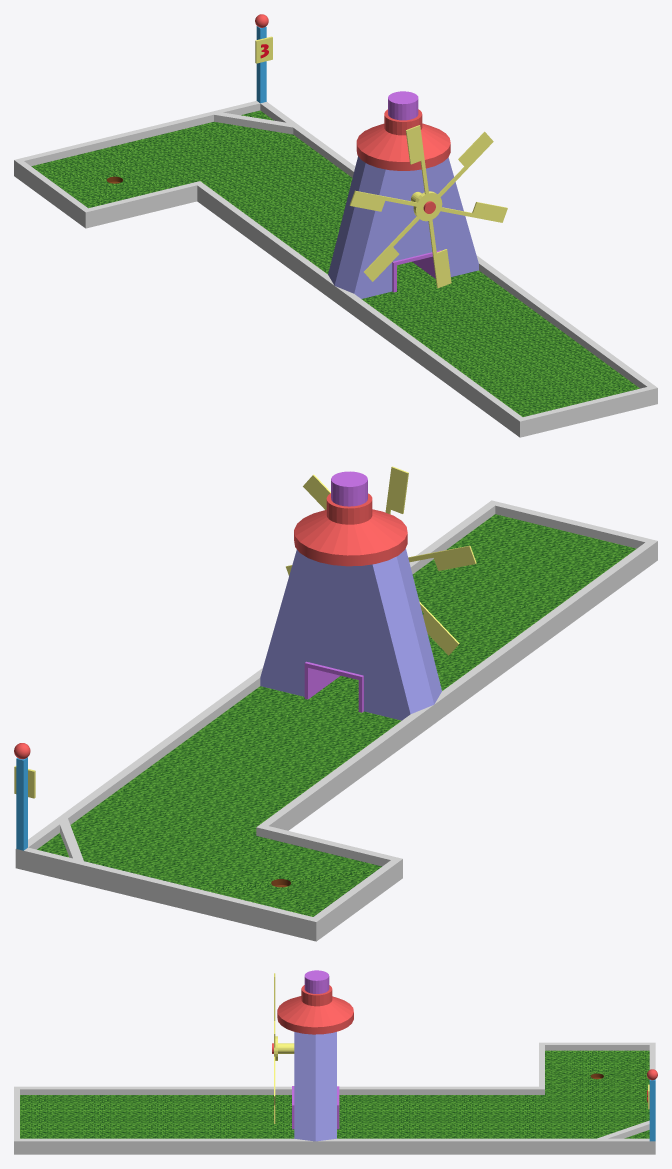
3 views of the same model, one above another, from view 1: azimuth 30°, elevation 25°; view 2: azimuth 150°, elevation 25°; view 3: azimuth 270°, elevation 25° (orthographic). The views are drawn at different scales.
Parts seen in each view (by area): view 1: Material2.003, Material3.004, Material2.002, Material2.001, Material3, Material3.001; view 2: Material2.003, Material3.004, Material2.002, Material3, Material2.001, Material3.001, Material2; view 3: Material2.003, Material3.004, Material2.002, Material3, Material3.001, Material2.001, Material2.
Boxes of the visible parts, bbox=[...] form: Material2.003: bbox=[31, 110, 639, 416]; Material3.004: bbox=[14, 101, 657, 437]; Material2.002: bbox=[328, 156, 478, 298]; Material2.001: bbox=[255, 36, 507, 288]; Material3: bbox=[255, 14, 450, 213]; Material3.001: bbox=[388, 91, 441, 292]; Material2.003: bbox=[37, 514, 636, 916]; Material3.004: bbox=[15, 500, 657, 941]; Material2.002: bbox=[260, 548, 441, 720]; Material3: bbox=[14, 493, 407, 759]; Material2.001: bbox=[14, 466, 476, 798]; Material3.001: bbox=[304, 471, 367, 712]; Material2: bbox=[16, 757, 27, 850]; Material2.003: bbox=[20, 1050, 649, 1138]; Material3.004: bbox=[14, 1042, 655, 1154]; Material2.002: bbox=[294, 1032, 336, 1141]; Material3: bbox=[272, 985, 657, 1080]; Material3.001: bbox=[292, 970, 339, 1129]; Material2.001: bbox=[274, 973, 649, 1123]; Material2: bbox=[649, 1079, 655, 1141].
Bounding box in the file's own units: 14.88 × 10.24 × 39.36.
Materials: 9 (1 with a texture image).
